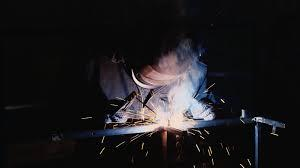controlled_fire: (100, 84, 211, 134)
